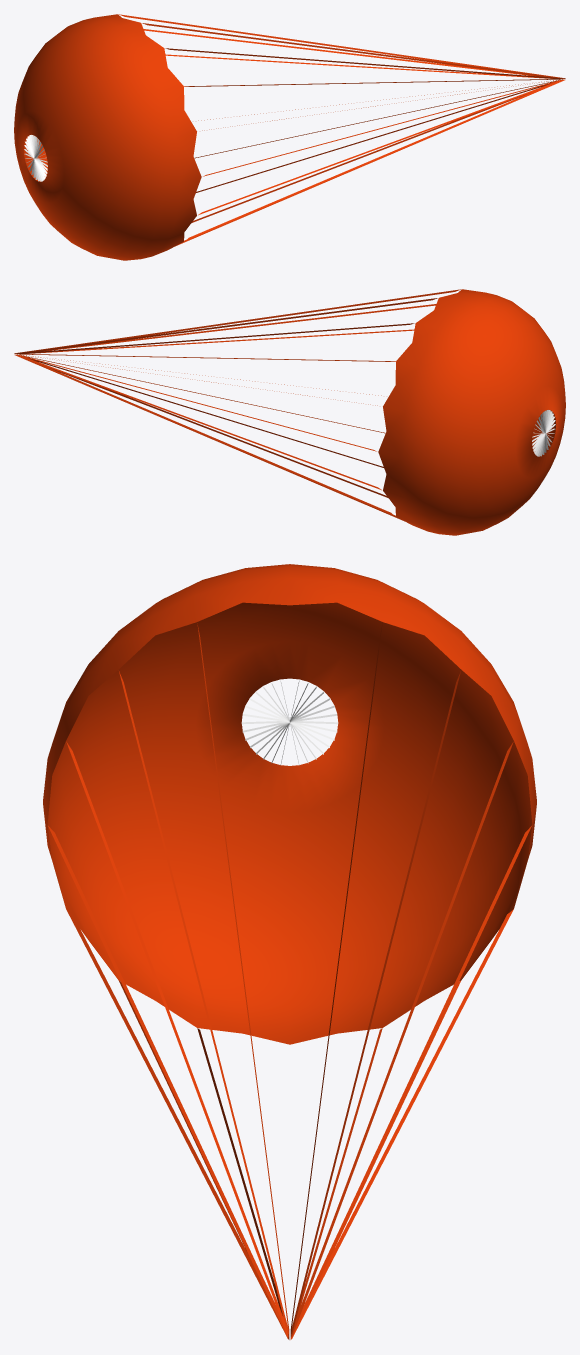
Rendered from parachute.glb.
3 renders of one model, top to bottom at view 1: azimuth 30°, elevation 25°; view 2: azimuth 150°, elevation 25°; view 3: azimuth 270°, elevation 25°, orthographic. The views are drawn at different scales.
Parts seen in each view (by area): view 1: Sphere (×2); view 2: Sphere (×2); view 3: Sphere (×2).
Part boxes in pixels (x1,y1,x2,y2): Sphere (×2): (14, 14, 565, 260); Sphere (×2): (14, 289, 565, 535); Sphere (×2): (43, 564, 536, 1339).
Size of the model in its own units: 4.99 by 2.01 by 2.01.
